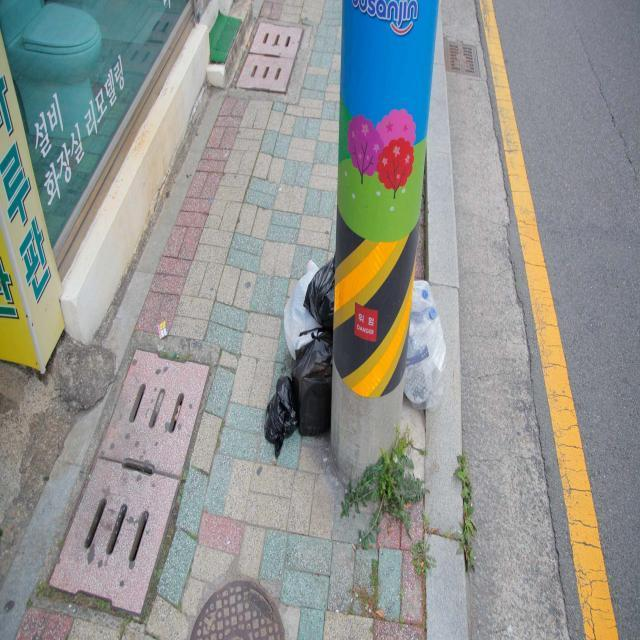Trashbag: (290, 343, 338, 430), (297, 278, 350, 328), (263, 372, 287, 452)
